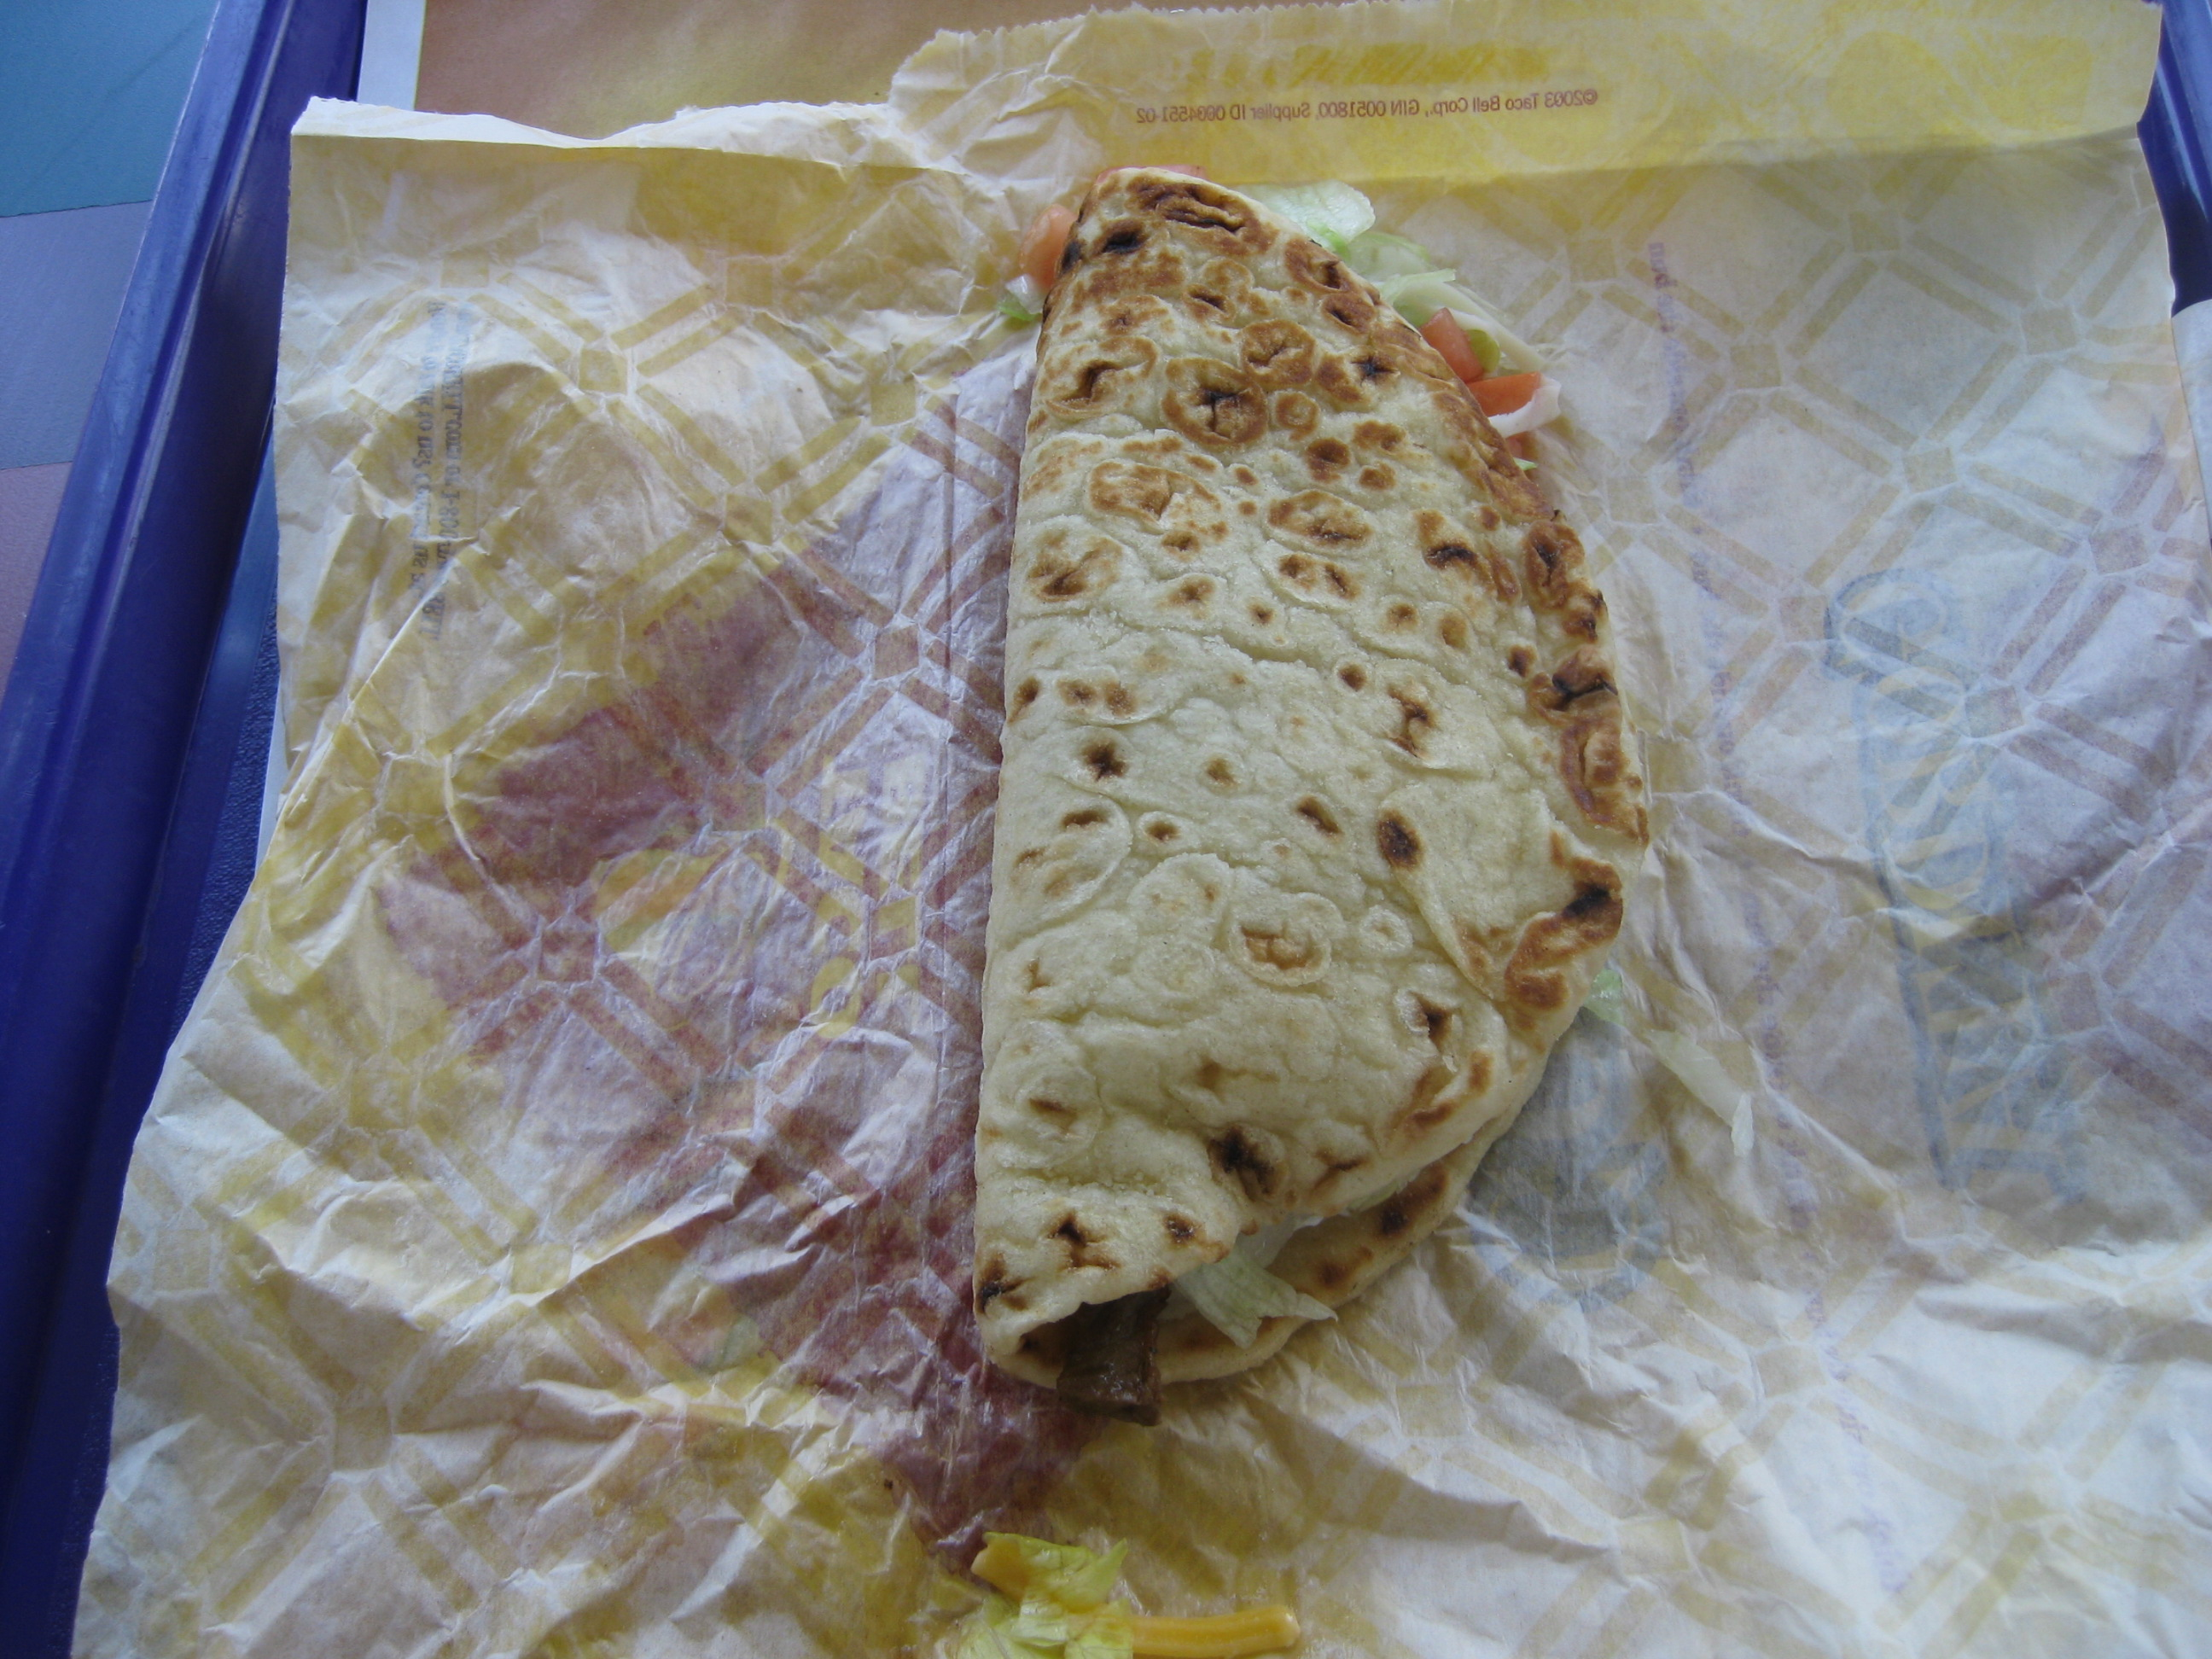taco: (972, 100, 1726, 1495)
